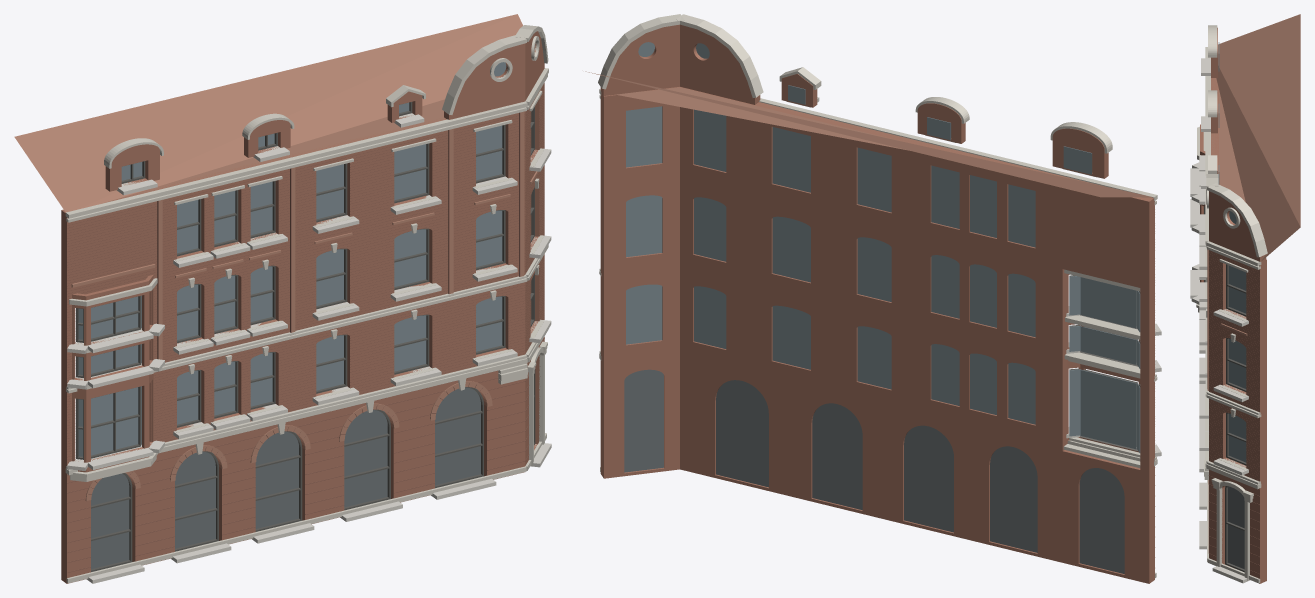
The model's file is huangpu-abraham-building-beijing-front-raw.glb.
3 renders of one model, left to right at view 1: azimuth 30°, elevation 25°; view 2: azimuth 150°, elevation 25°; view 3: azimuth 270°, elevation 25°, orthographic. The views are drawn at different scales.
Visible parts, largest first — view 1: 益丰洋行大楼北京东路西端券窗与切角; view 2: 益丰洋行大楼北京东路西端券窗与切角; view 3: 益丰洋行大楼北京东路西端券窗与切角.
Part boxes in pixels (<box>): 益丰洋行大楼北京东路西端券窗与切角: <box>14,14,551,583</box>; 益丰洋行大楼北京东路西端券窗与切角: <box>585,14,1161,583</box>; 益丰洋行大楼北京东路西端券窗与切角: <box>1190,14,1300,583</box>.
Size of the model in its own units: 21.04 by 17.03 by 4.51.
